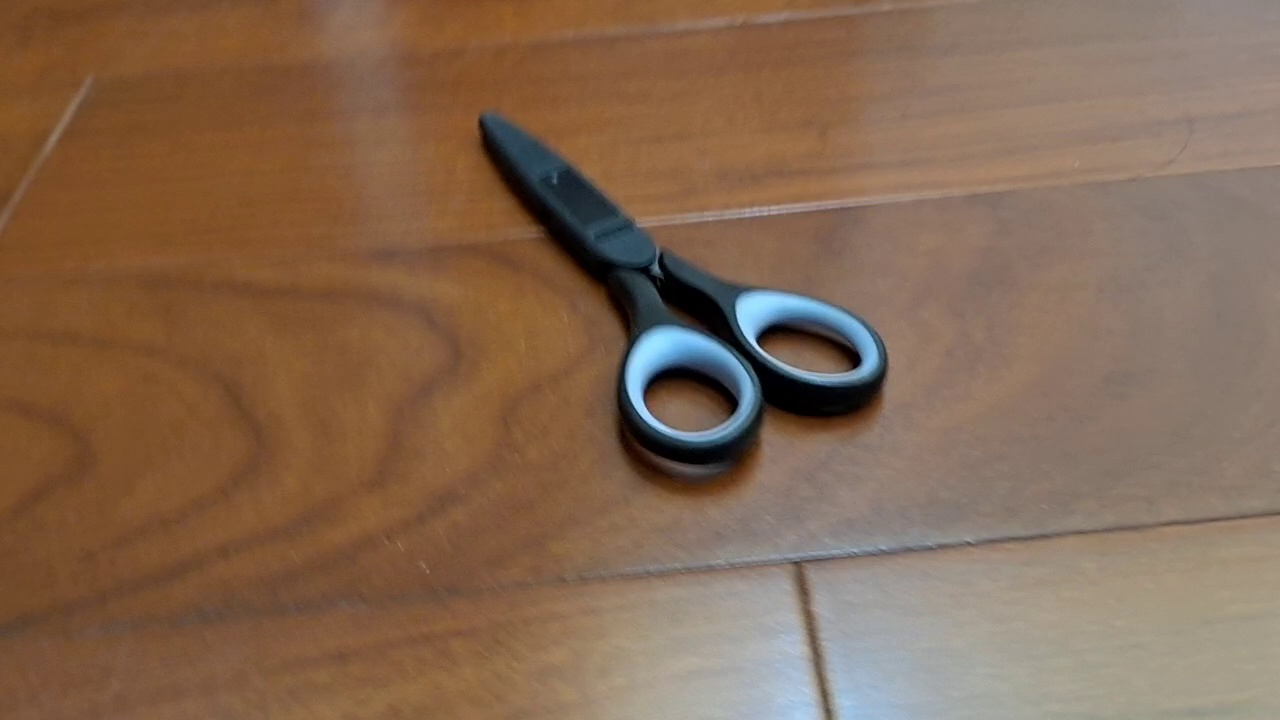scissors: (476, 108, 889, 467)
